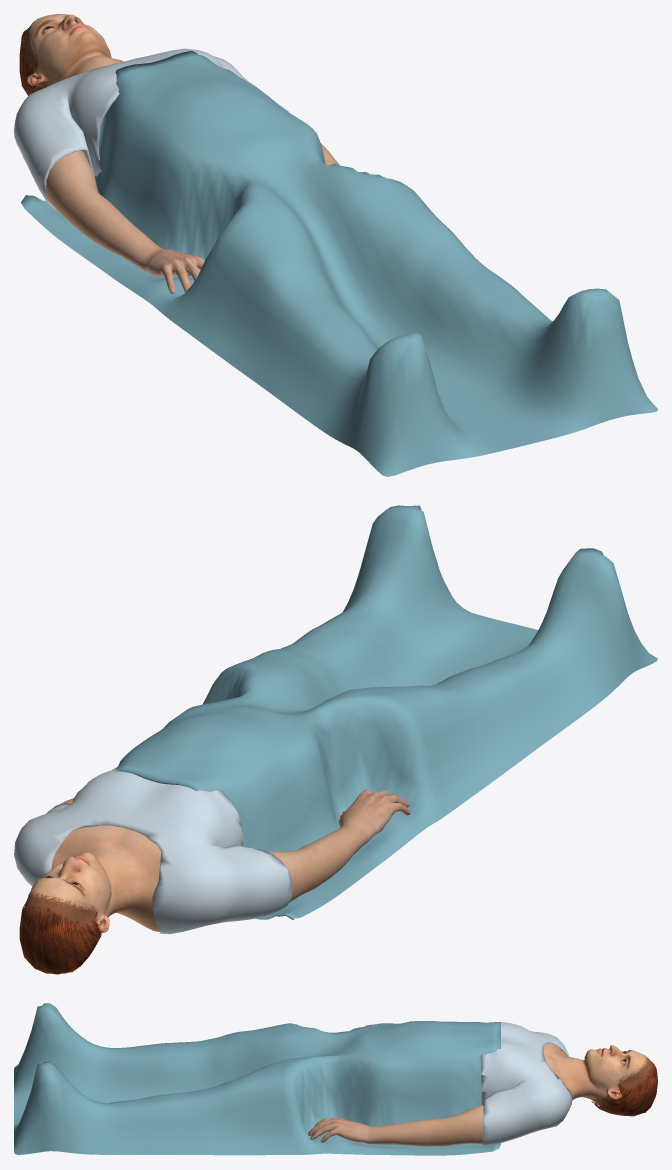
3 views of the same model, one above another, from view 1: azimuth 30°, elevation 25°; view 2: azimuth 150°, elevation 25°; view 3: azimuth 270°, elevation 25° (orthographic). The views are drawn at different scales.
Parts seen in each view (by area): view 1: sheet, gown, arms, body; view 2: sheet, gown, body, arms, hair; view 3: sheet, gown, arms, body, hair.
Boxes of the visible parts, x1,y1,x2,y2 form: sheet: (21,50,657,476); gown: (14,48,288,209); arms: (45,143,339,293); body: (22,14,123,90); sheet: (115,505,657,919); gown: (14,766,292,934); body: (24,825,161,973); arms: (59,789,410,902); hair: (19,903,102,974); sheet: (14,1003,500,1155); gown: (480,1022,572,1145); arms: (308,1105,483,1146); body: (543,1043,654,1114); hair: (591,1061,657,1116).
Size of the model in its own units: 0.6447 by 0.2829 by 1.97.
8 materials, 6 textured.
